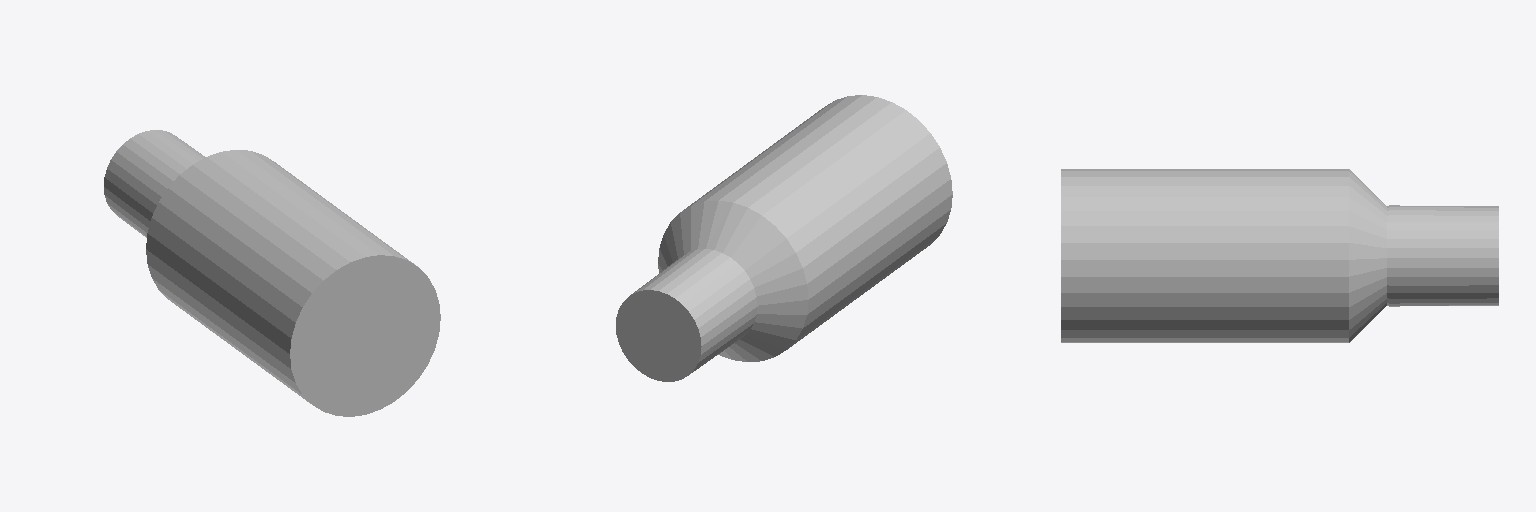
Rendered from bottle.obj.
3 views of the same model, side by side, from view 1: azimuth 30°, elevation 25°; view 2: azimuth 150°, elevation 25°; view 3: azimuth 270°, elevation 25° (orthographic).
Visible parts, largest first — view 1: Circle; view 2: Circle; view 3: Circle.
Boxes of the visible parts, <box> form: Circle: <box>104,130,440,416</box>; Circle: <box>616,95,952,381</box>; Circle: <box>1061,169,1498,342</box>.
Size of the model in its own units: 0.7184 by 0.7184 by 1.81.